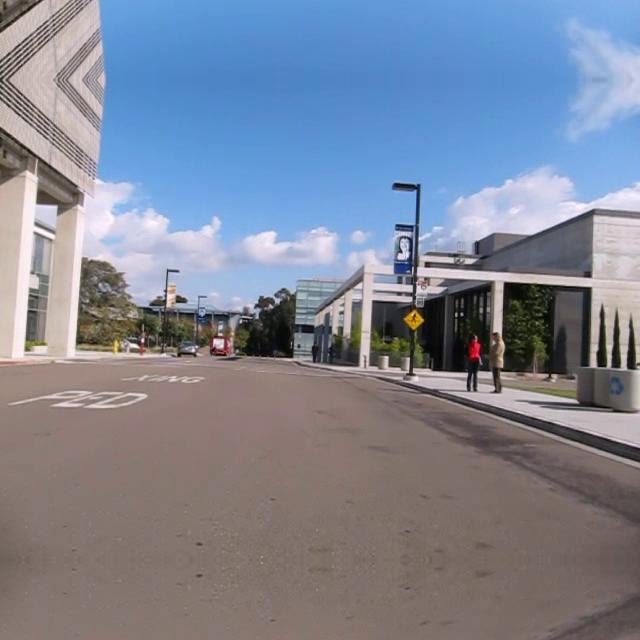pedestrianCrossing: (402, 308, 424, 330)
